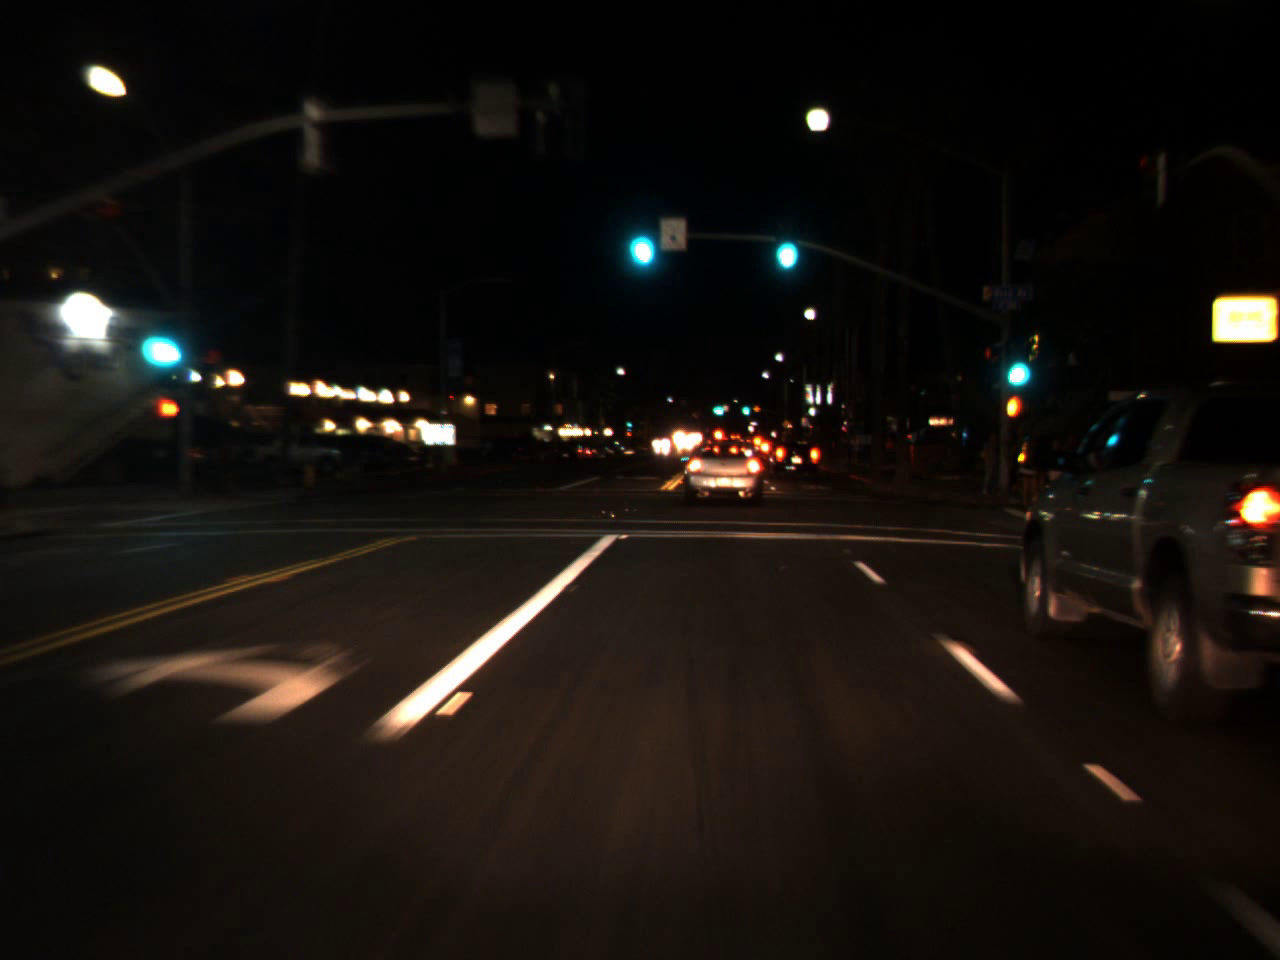go: (134, 301, 186, 378), (618, 199, 661, 277), (767, 208, 803, 280), (997, 331, 1034, 397), (709, 394, 727, 418), (739, 395, 751, 419)
